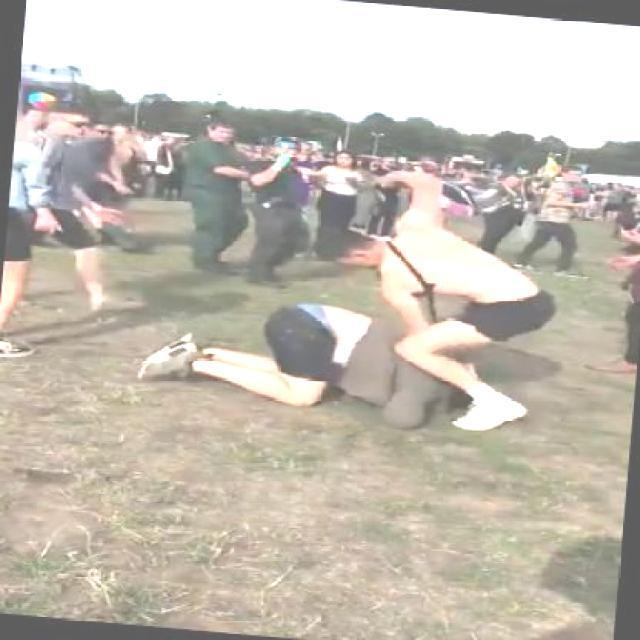fight: (126, 148, 571, 442)
